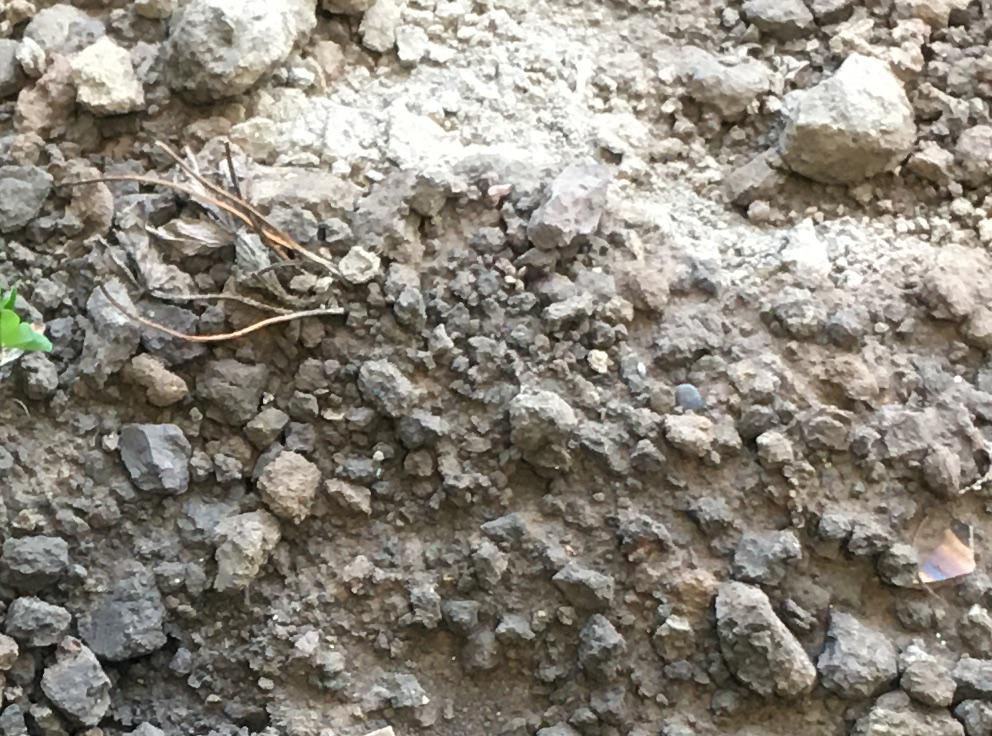block: (775, 49, 915, 184), (156, 1, 303, 99), (706, 576, 811, 700)
